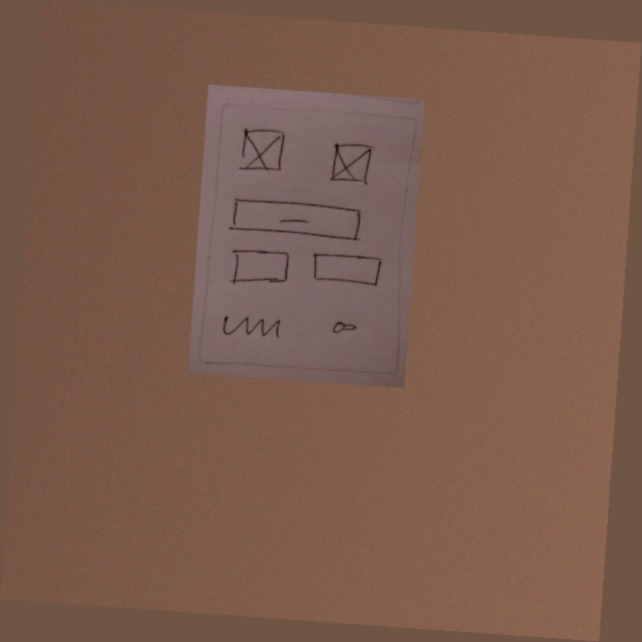button: (227, 194, 363, 243)
image: (236, 124, 288, 177), (326, 138, 375, 189)
switch: (324, 314, 364, 339)
text: (216, 312, 286, 344)
text_input: (305, 248, 386, 291), (224, 245, 293, 292)
